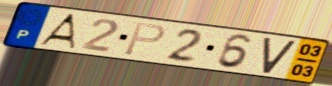2: (163, 28, 206, 64), (80, 18, 120, 54)
6: (215, 33, 255, 70)
A: (35, 13, 78, 51)
P: (122, 21, 168, 57)
V: (261, 37, 299, 76)
